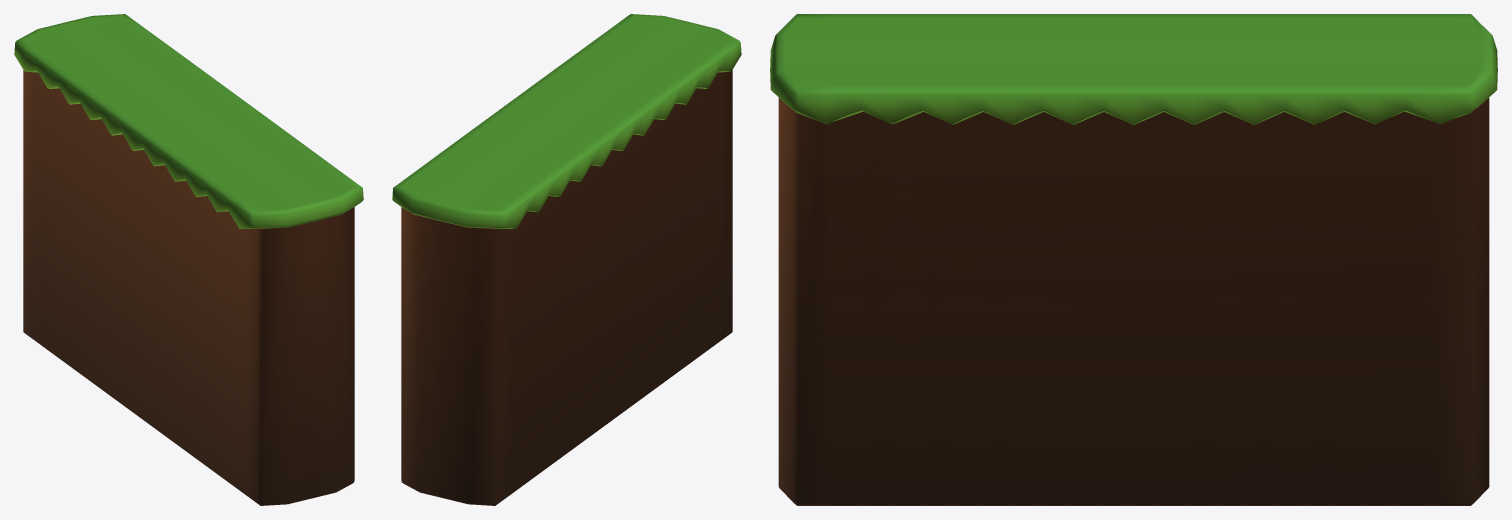
File: TallLongCube.fbx
3 renders of one model, left to right at view 1: azimuth 30°, elevation 25°; view 2: azimuth 150°, elevation 25°; view 3: azimuth 270°, elevation 25°, orthographic. The views are drawn at different scales.
Parts seen in each view (by area): view 1: TallLongCube; view 2: TallLongCube; view 3: TallLongCube.
Boxes of the visible parts, <box> form: TallLongCube: <box>14,14,363,505</box>; TallLongCube: <box>392,14,741,505</box>; TallLongCube: <box>770,14,1497,505</box>.
Size of the model in its own units: 235 by 582 by 911.
